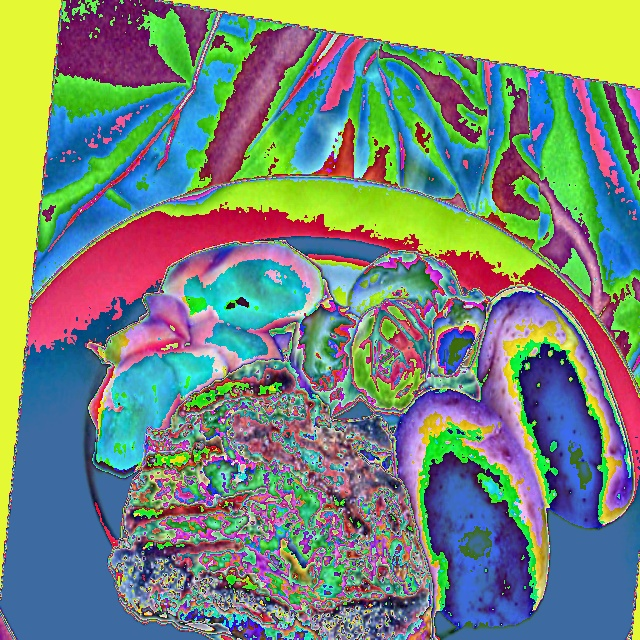background: (85, 239, 636, 639)
